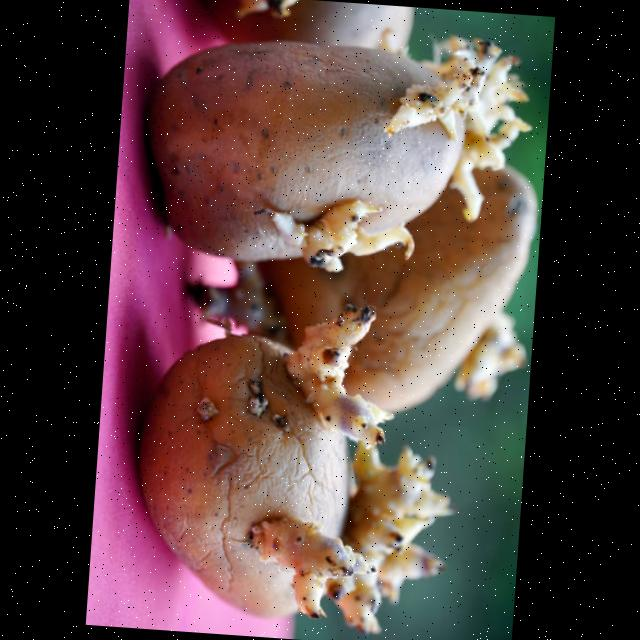Sprouted potato: (118, 310, 465, 640), (128, 14, 538, 284), (250, 141, 544, 440)
